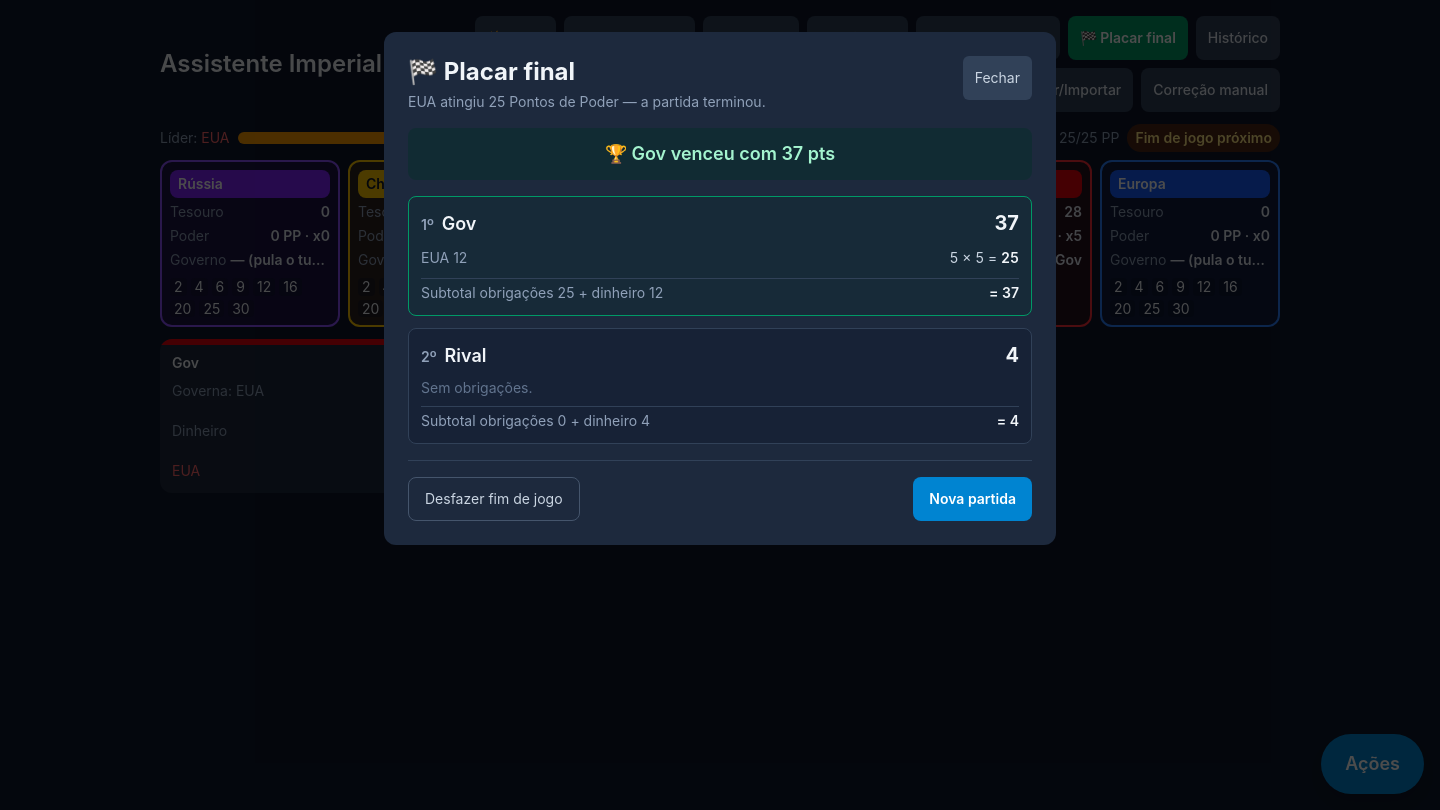
Test case: PlacarFinal — fim de jogo ponta a ponta › bloqueia as ações do rondel no pós-jogo, mantendo desfazer
Note: Fecha o placar para chegar ao menu de ações.
Click the button "Fechar" at (997, 78), box [963,56,1032,100]
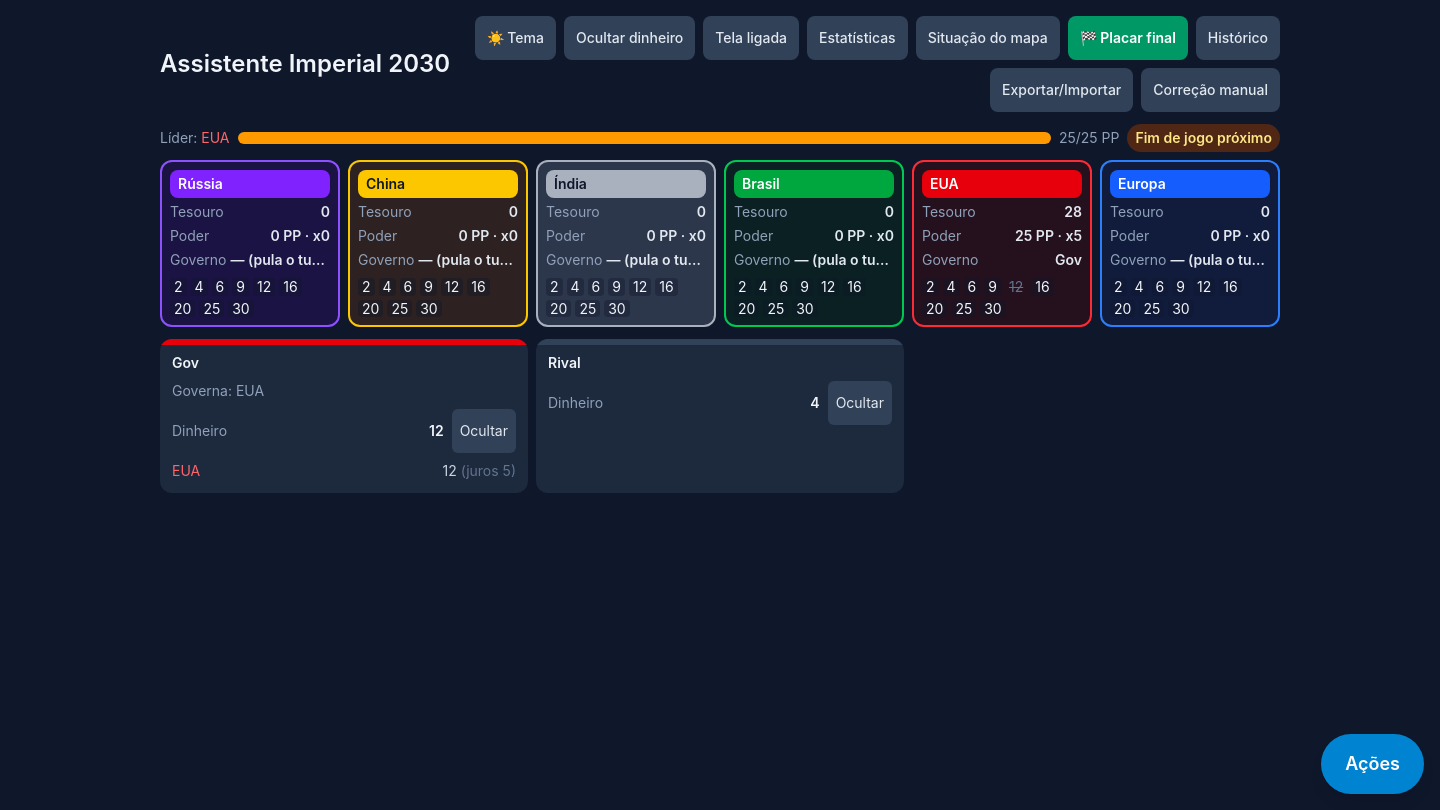
Click the button "Ações" at (1373, 764), box [1321,734,1424,794]
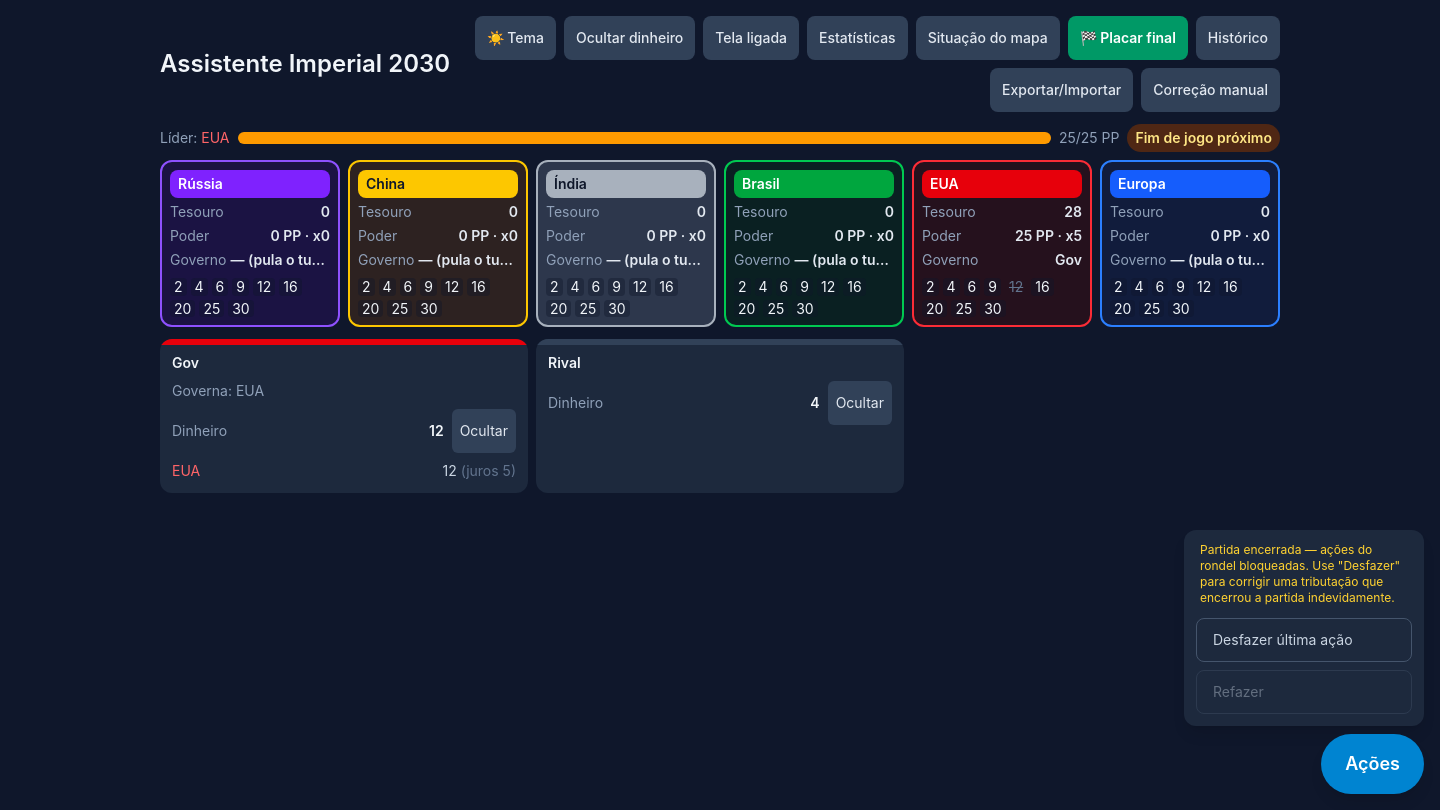
Check: the text "ações do rondel bloqueadas" is shown, box [1200,542,1400,605]
Check: the button "Desfazer última ação" is enabled, box [1196,618,1412,662]
